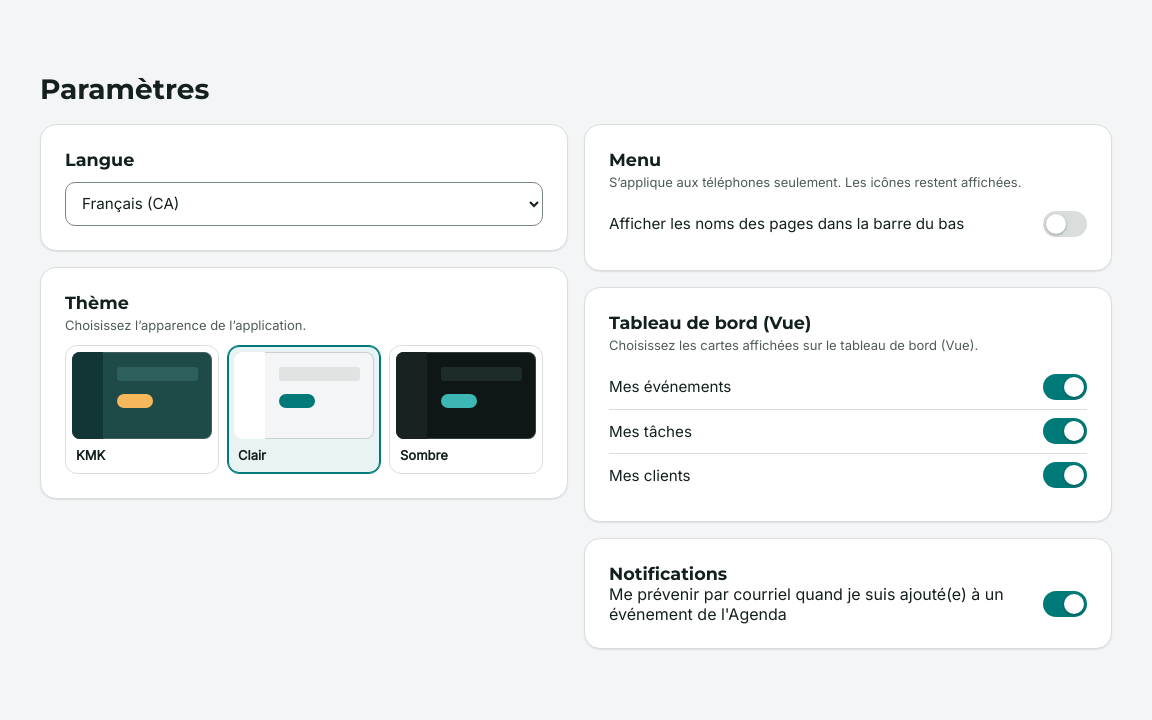
Test case: Settings page › applies and remembers the chosen theme
Click the radio button labelled "Sombre". click: click(466, 409)
box: x1=389 y1=345 x2=543 y2=474
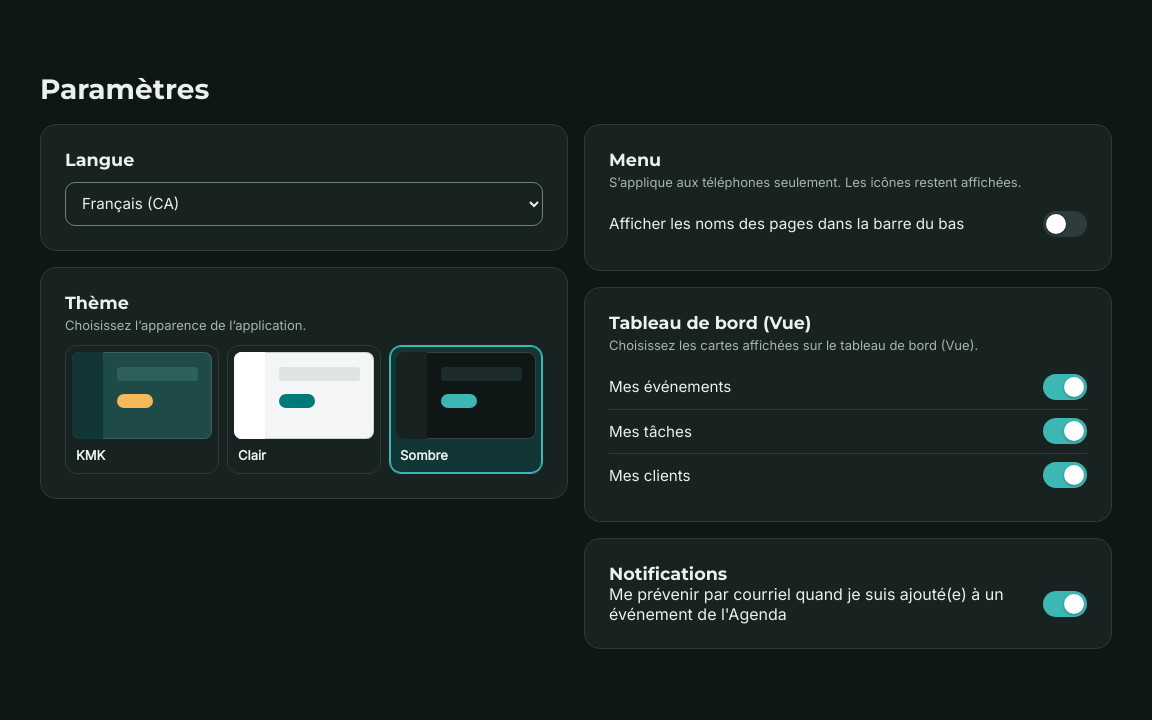
Expected: the radio button labelled "Sombre" is checked, x1=389 y1=345 x2=543 y2=474
